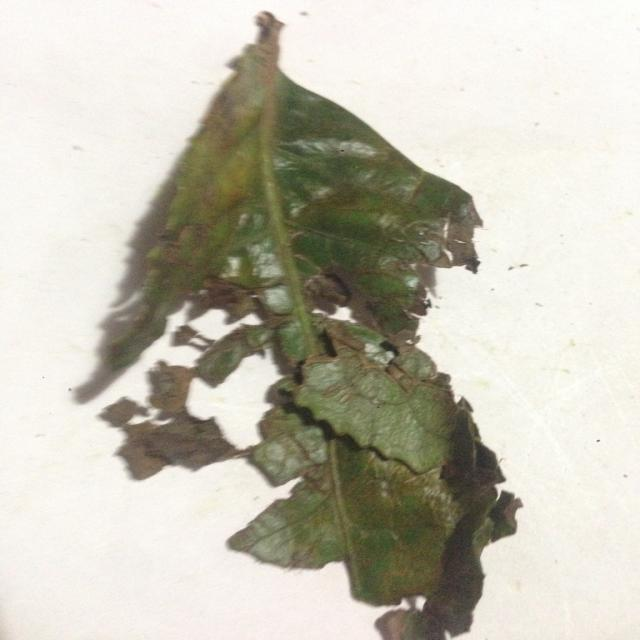Red Leaf Spot: (106, 0, 526, 640)
